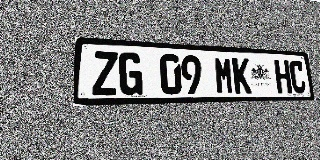0: (159, 54, 182, 95)
9: (181, 55, 203, 95)
C: (289, 60, 307, 93)
G: (119, 52, 143, 95)
H: (274, 59, 292, 93)
K: (232, 57, 252, 94)
M: (214, 56, 234, 94)
Z: (92, 51, 118, 96)
